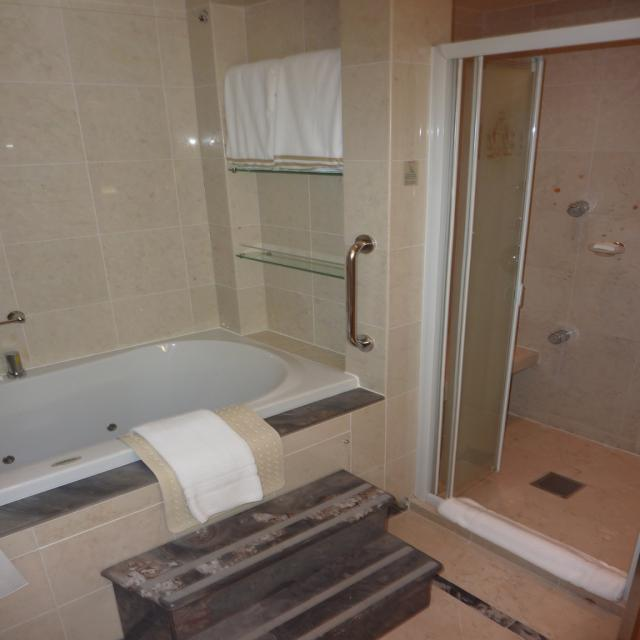Handle: (343, 241, 375, 356)
Staircase: (92, 432, 424, 640)
door: (374, 48, 636, 528)
wash basin: (4, 352, 357, 458), (506, 0, 590, 248)
